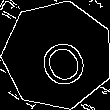O_NW: (26, 23, 89, 87)
